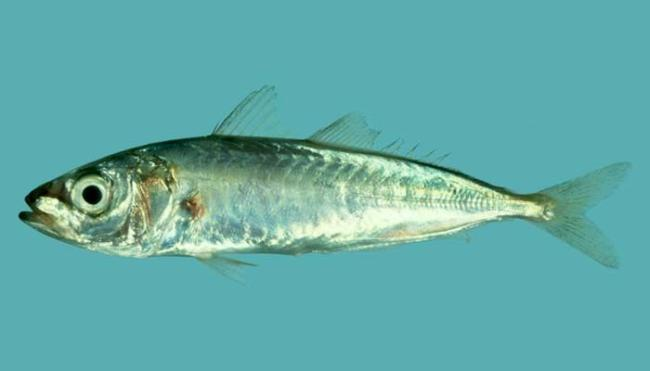fish: (19, 86, 633, 284)
